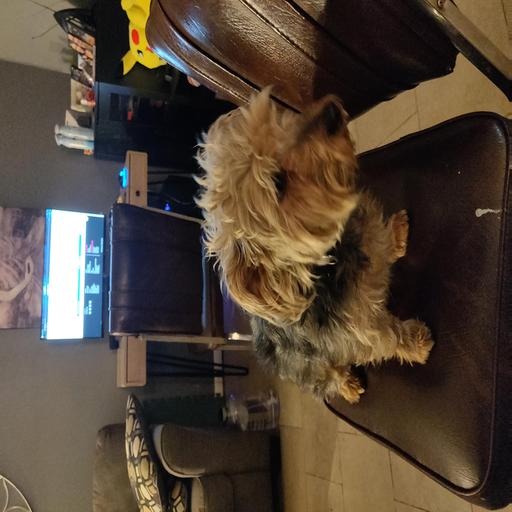dog: (190, 99, 414, 323)
